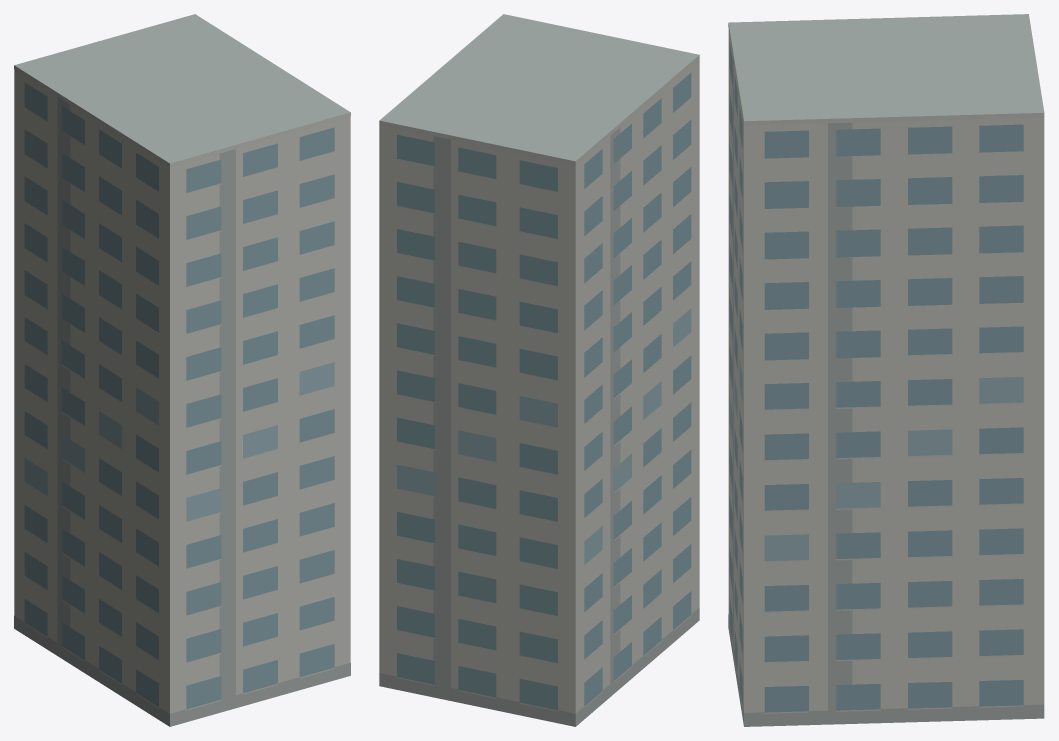
Rendered from residential-a9cb18b6-fda2-435b-9ea2-f4aee83754d3.glb.
3 views of the same model, side by side, from view 1: azimuth 30°, elevation 25°; view 2: azimuth 150°, elevation 25°; view 3: azimuth 270°, elevation 25° (orthographic). The views are drawn at different scales.
Visible parts, largest first — view 1: residential-a9cb18b6-fda2-435b-9ea2-f4aee83754d3.tmp; view 2: residential-a9cb18b6-fda2-435b-9ea2-f4aee83754d3.tmp; view 3: residential-a9cb18b6-fda2-435b-9ea2-f4aee83754d3.tmp.
Boxes of the visible parts, bbox=[...] form: residential-a9cb18b6-fda2-435b-9ea2-f4aee83754d3.tmp: bbox=[14, 14, 350, 726]; residential-a9cb18b6-fda2-435b-9ea2-f4aee83754d3.tmp: bbox=[379, 14, 699, 726]; residential-a9cb18b6-fda2-435b-9ea2-f4aee83754d3.tmp: bbox=[728, 14, 1044, 726].
Bounding box in the file's own units: 12.53 × 33 × 15.61.
